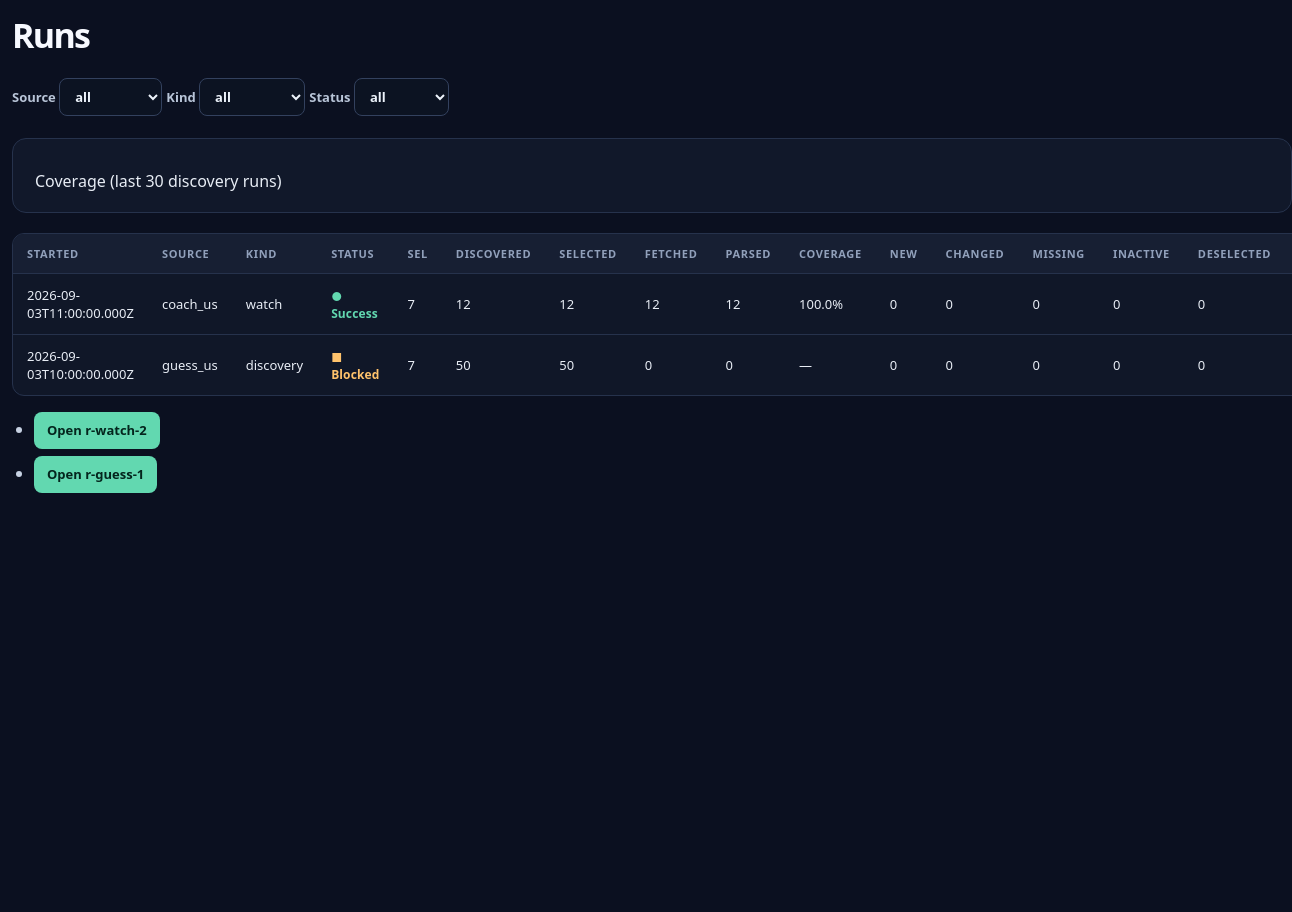
RunsScreen (WP-64) › filters refetch with the query and the drawer explains a block with no retry
Check: the button "Open r-guess-1" is shown, box [34,456,157,493]
Select "blocked" in the dropdown named "filter status" at (402, 97), box [354,78,449,116]
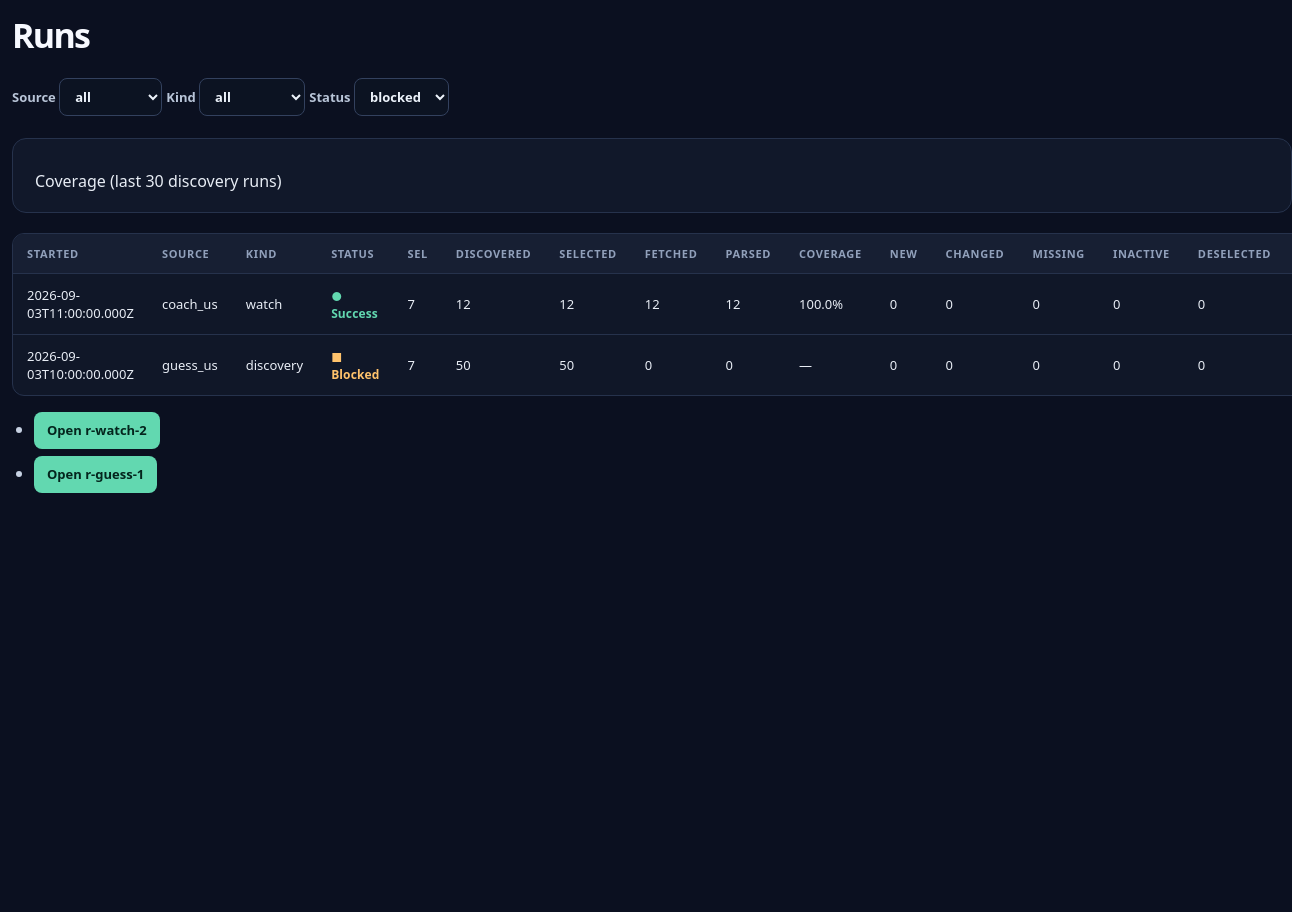
Click the button "Open r-guess-1" at (96, 474), box [34,456,157,493]
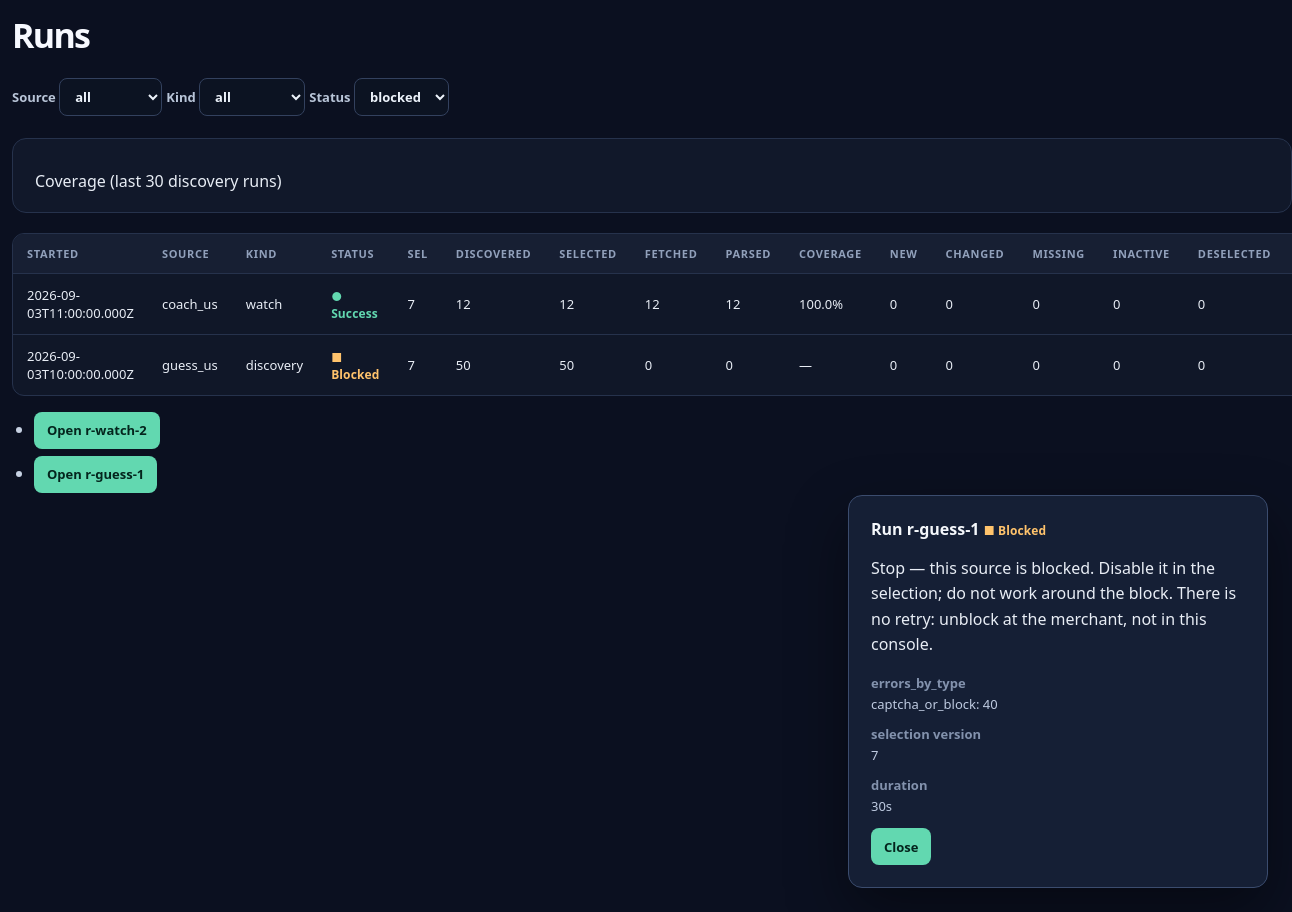
Check: the element named "run detail" is shown, box [848,495,1268,888]
Check: the element named "run detail" shows "captcha_or_block: 40", box [871,695,998,713]
Check: the element named "run detail" shows "Disable it in the selection", box [871,557,1236,655]
